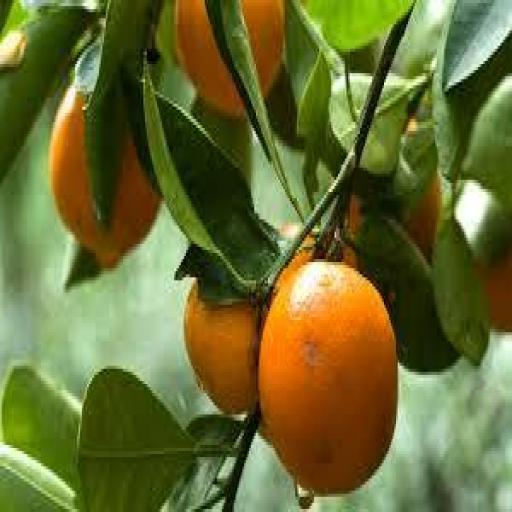orange: (260, 263, 397, 493)
